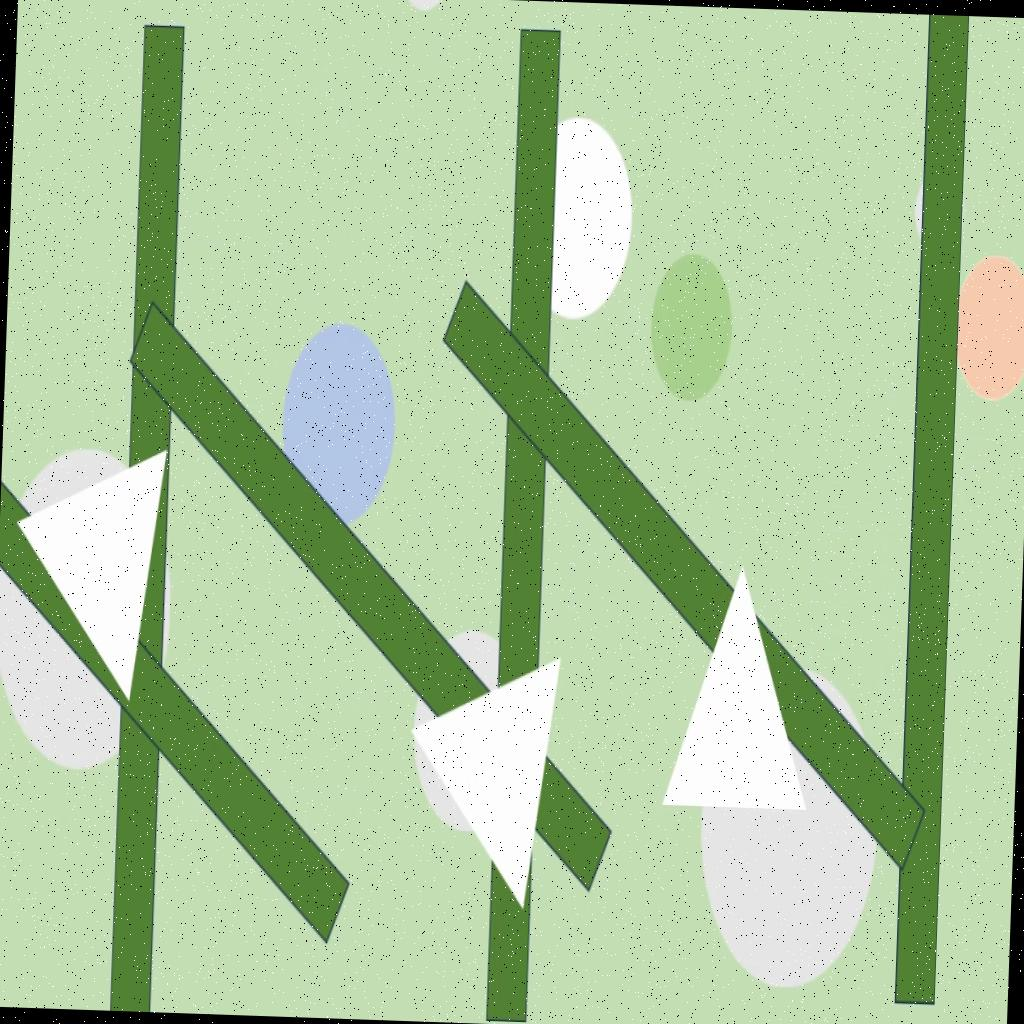Circle: (694, 664, 884, 988), (0, 441, 174, 768), (278, 316, 400, 530), (514, 111, 635, 323), (412, 625, 530, 835), (646, 248, 736, 401), (953, 249, 1024, 400), (912, 182, 948, 242), (391, 0, 449, 14)
